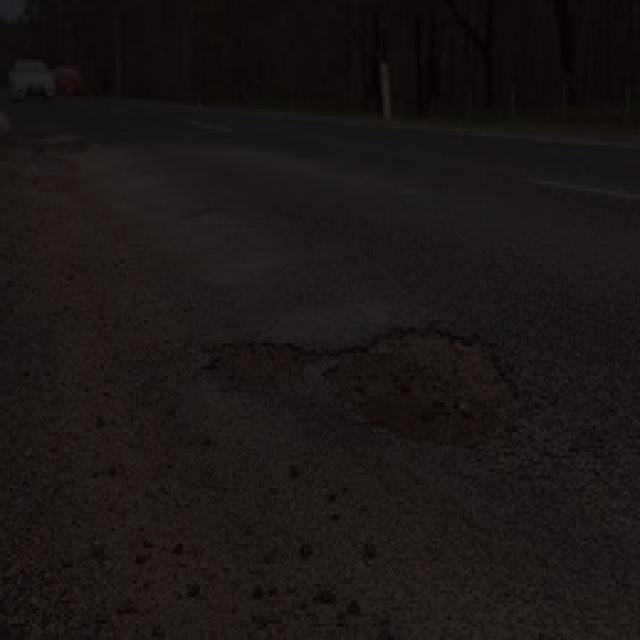Pothole: (191, 307, 522, 459)
